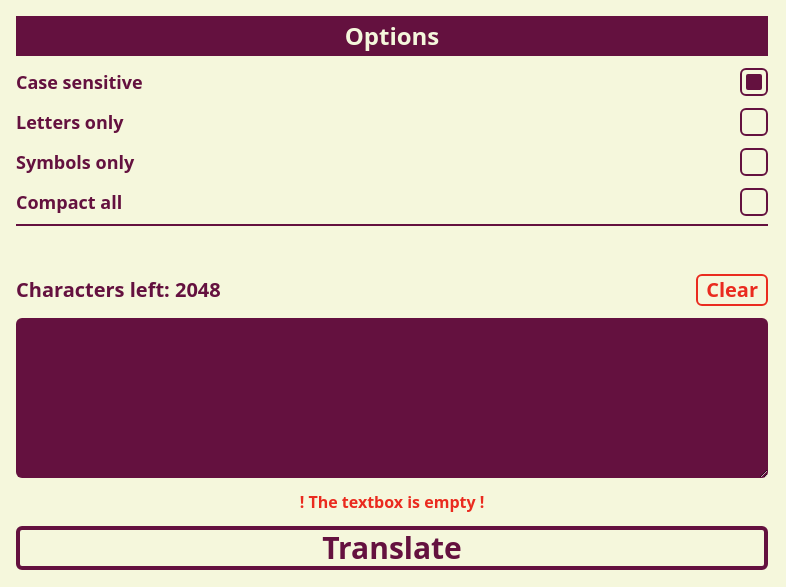
Parsing options › should disable conflict options when checked › lettersOnly
Click the checkbox named "Letters only" in the row of "Letters only" at (754, 122), box [740,108,768,136]
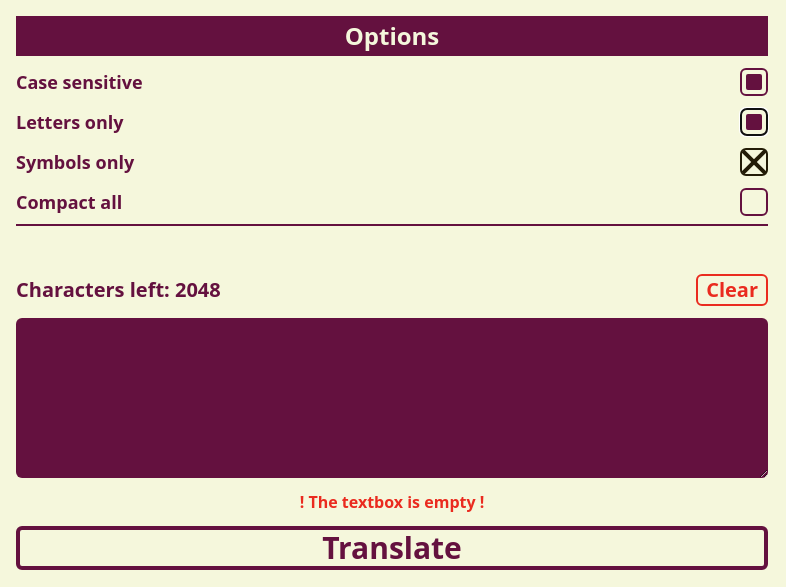
Expected: the checkbox named "Symbols only" in the row of "Symbols only" is disabled, [740,148,768,176]
